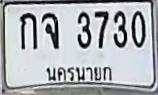0: (131, 10, 145, 47)
3: (76, 11, 91, 48), (112, 10, 127, 47)
7: (94, 10, 108, 48)
A01: (19, 12, 37, 49)
A08: (41, 12, 58, 48)
NYK: (44, 63, 114, 82)
